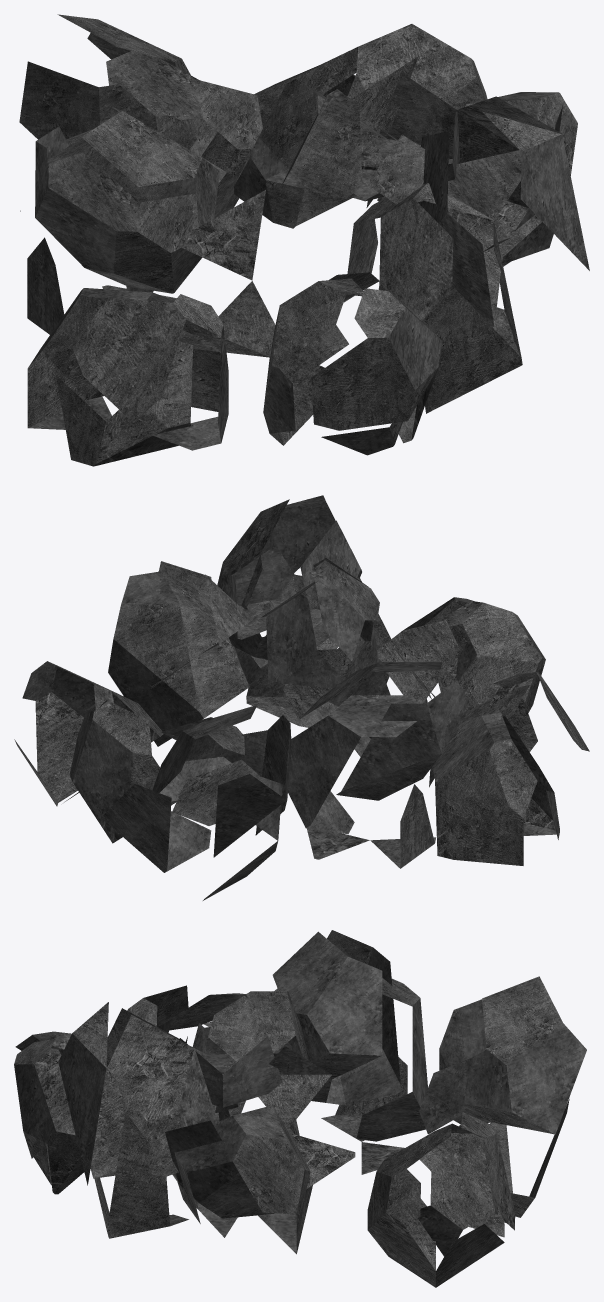
The model's file is Stone14.obj.
The picture shows the model from 3 angles, top to bottom: view 1: azimuth 30°, elevation 25°; view 2: azimuth 150°, elevation 25°; view 3: azimuth 270°, elevation 25°; orthographic projection. The views are drawn at different scales.
Parts seen in each view (by area): view 1: Object015; view 2: Object015; view 3: Object015.
Boxes of the visible parts, box(x1,y1,x2,y2) form: Object015: box(19, 14, 589, 466); Object015: box(14, 495, 589, 900); Object015: box(14, 930, 586, 1287).
Size of the model in its own units: 280 by 151 by 303.
1 material, 1 textured.
